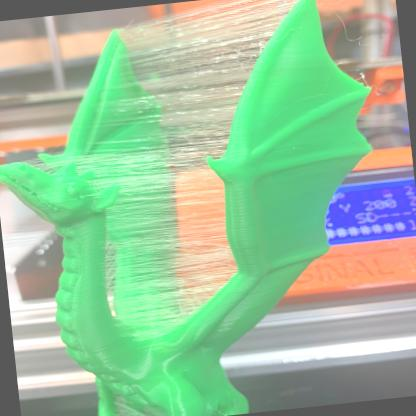fail: (94, 144, 242, 325), (115, 1, 316, 107)
